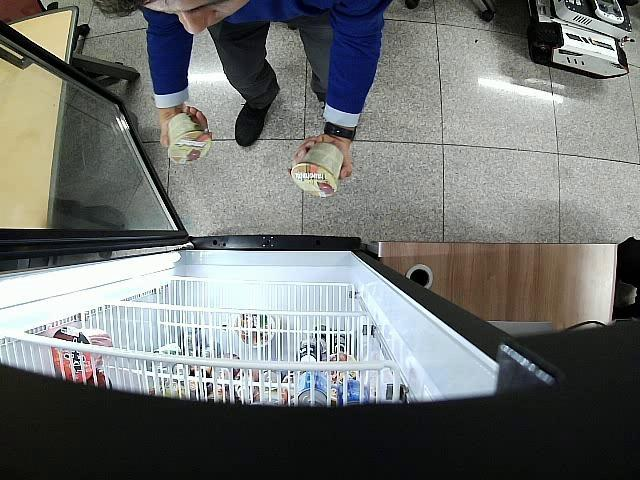04_chapagetti_S: (291, 142, 344, 198), (167, 114, 212, 164)
